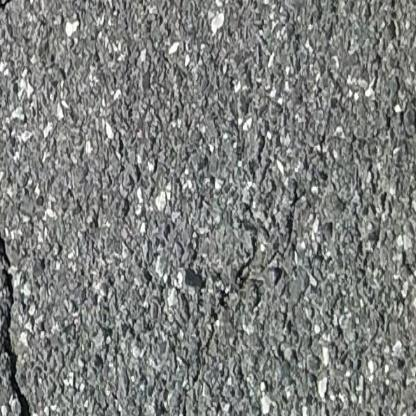Cracks: (0, 102, 41, 416), (0, 0, 43, 47)
